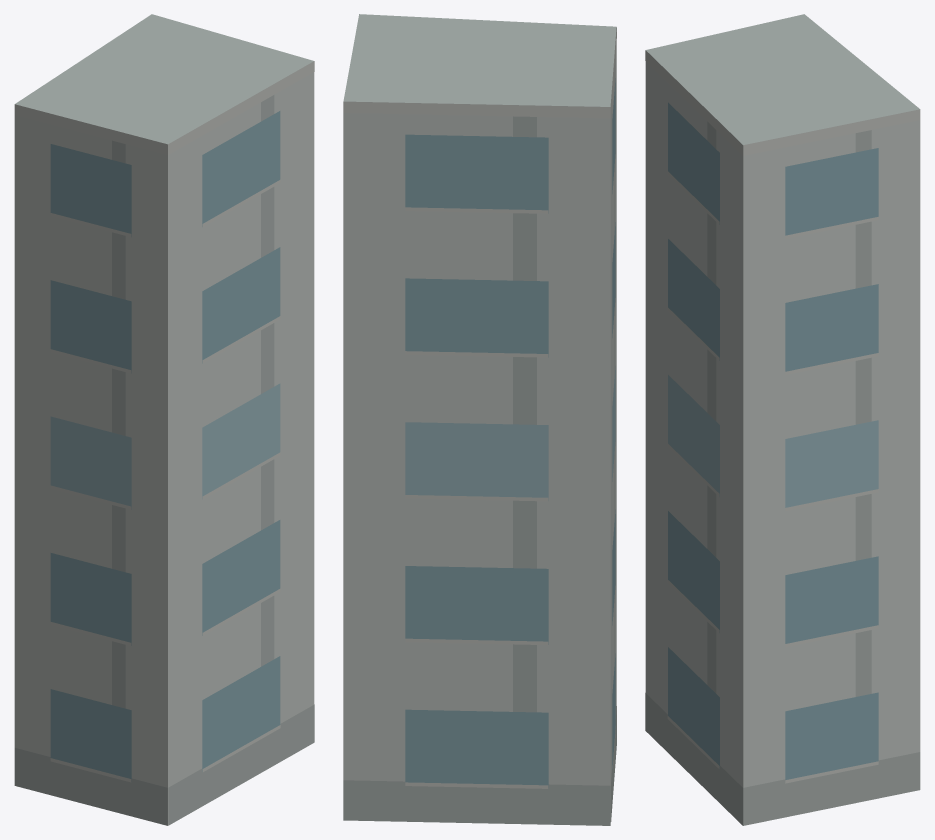
Rendered from survey-upis-32588165.glb.
3 views of the same model, side by side, from view 1: azimuth 30°, elevation 25°; view 2: azimuth 150°, elevation 25°; view 3: azimuth 270°, elevation 25° (orthographic). The views are drawn at different scales.
Visible parts, largest first — view 1: survey-upis-32588165.tmp; view 2: survey-upis-32588165.tmp; view 3: survey-upis-32588165.tmp.
Boxes of the visible parts, box(x1,y1,x2,y2) form: survey-upis-32588165.tmp: box(14, 14, 314, 825); survey-upis-32588165.tmp: box(343, 14, 616, 825); survey-upis-32588165.tmp: box(645, 14, 920, 825).
Bounding box in the file's own units: 6.31 × 15.25 × 5.59.
